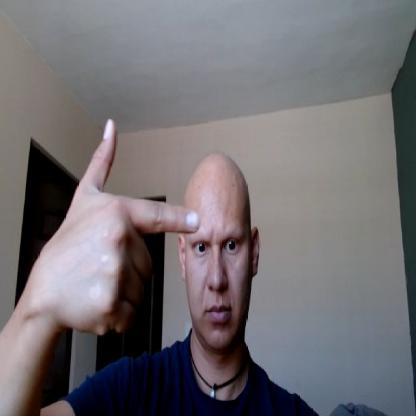G: (58, 116, 201, 334)
